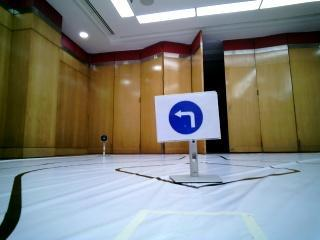left: (157, 98, 220, 137)
